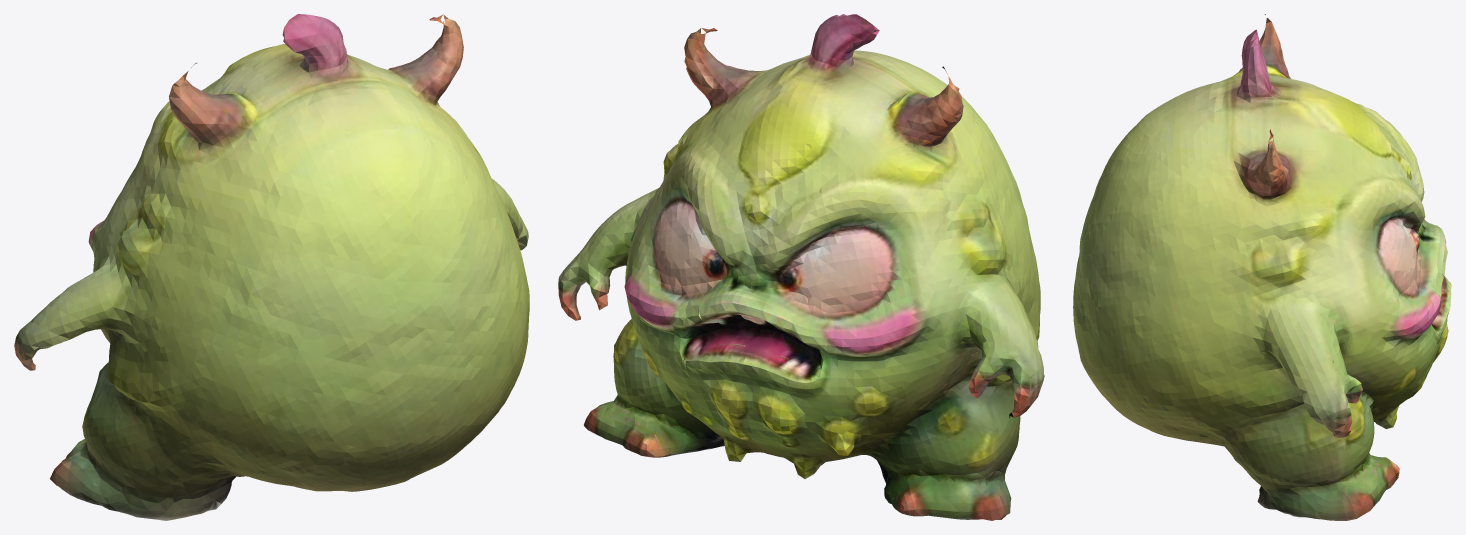
The model's file is slime.glb.
The picture shows the model from 3 angles, left to right: view 1: azimuth 30°, elevation 25°; view 2: azimuth 150°, elevation 25°; view 3: azimuth 270°, elevation 25°; orthographic projection. The views are drawn at different scales.
Parts seen in each view (by area): view 1: world; view 2: world; view 3: world.
Part boxes in pixels (bbox=[...]): world: bbox=[14, 14, 529, 520]; world: bbox=[558, 14, 1044, 520]; world: bbox=[1073, 14, 1451, 520].
Size of the model in its own units: 0.8672 by 0.7751 by 0.6499.
1 material, 1 textured.
